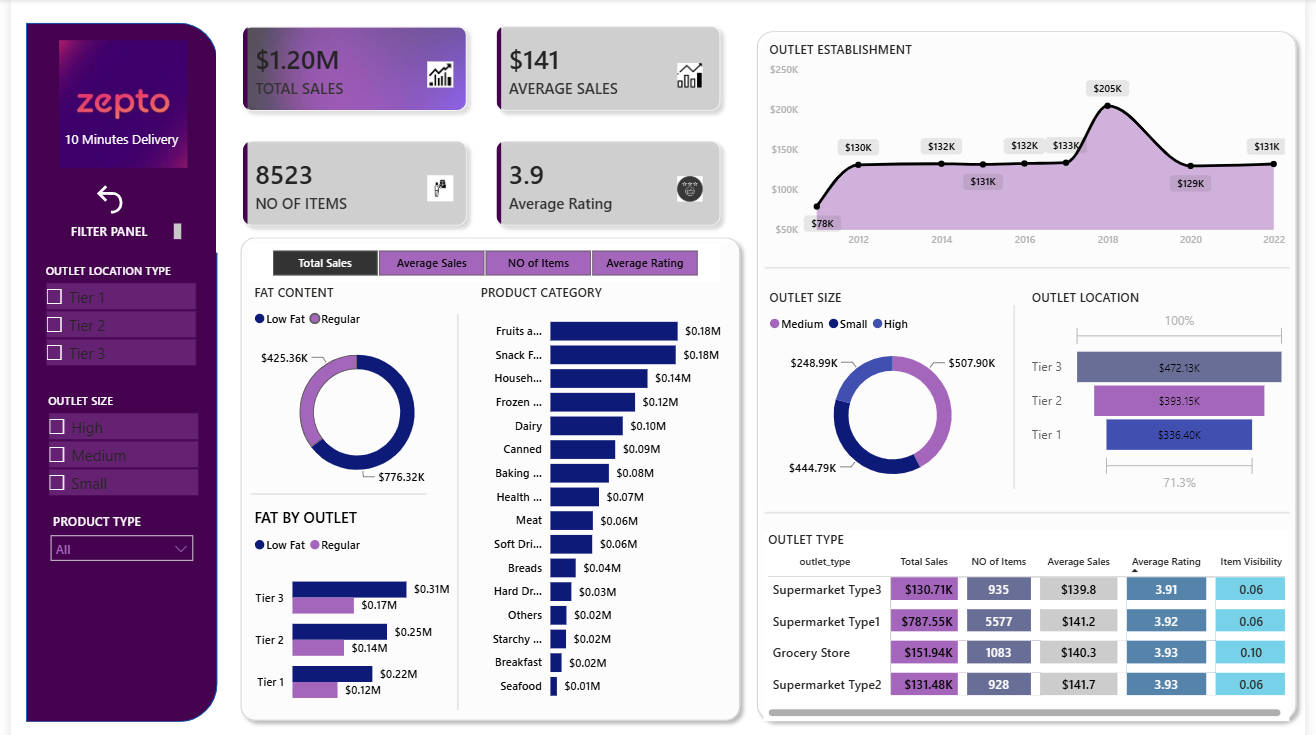

What the dashboard file says about the page in this screenshot:
{"tool":"powerbi","page":{"name":"Page 1","canvas":[1388,800],"ordinal":0},"visuals":[{"type":"textbox","box":[37.2,125,168.1,157.7],"z":0},{"type":"shape","box":[16.4,25.3,205.3,750],"z":1000},{"type":"image","box":[34.2,44.6,171.1,136.9],"z":2000},{"type":"textbox","box":[52.1,135.4,135.4,32.7],"z":3000},{"type":"cardVisual","fields":{"Data":["Sheet1.Total Sales","Sheet1.Average Sales","Sheet1.NO of Items","Sheet1.Average Rating"]},"box":[219.8,0,571,272.1],"z":4000},{"type":"image","box":[446.4,55,28.2,52.3],"z":5000},{"type":"image","box":[714.5,63,26.8,37.5],"z":6000},{"type":"image","box":[446.4,185,28.2,36.2],"z":7000},{"type":"image","box":[714.5,183.6,26.8,40.2],"z":8000},{"type":"shape","box":[237.3,246.7,553.6,536.2],"z":9000},{"type":"donutChart","title":"FAT CONTENT","fields":{"Y":["Sheet1.Total Sales"],"Series":["Sheet1.fat_content"]},"box":[256,305.6,230.6,230],"z":10000},{"type":"slicer","fields":{"Values":["Metrics.Metrics"]},"box":[254.7,262.7,505.4,40.2],"z":11000},{"type":"clusteredBarChart","title":"FAT BY OUTLET","fields":{"Y":["Sheet1.Total Sales"],"Category":["Sheet1.outlet_location_type"],"Series":["Sheet1.fat_content"]},"box":[256,544.2,219.8,230.6],"z":12000},{"type":"shape","box":[257.4,525.5,189,10.7],"z":13000},{"type":"shape","box":[471.9,337.8,14.7,424.9],"z":14000},{"type":"barChart","title":"PRODUCT CATEGORY","fields":{"Y":["Sheet1.Total Sales"],"Category":["Sheet1.product_category"]},"box":[498.7,305.6,268.1,457.1],"z":15000},{"type":"shape","box":[790.9,25.5,596.5,757.4],"z":16000},{"type":"lineChart","title":"OUTLET ESTABLISHMENT","fields":{"Y":["Sheet1.Total Sales"],"Category":["Sheet1.outlet_establishment_year"]},"box":[808.3,44.2,563,230.6],"z":17000},{"type":"shape","box":[808.3,282.8,563,10.7],"z":18000},{"type":"donutChart","title":"OUTLET SIZE","fields":{"Y":["Sheet1.Total Sales"],"Category":["Sheet1.outlet_size"]},"box":[808.3,311,274.8,225.2],"z":19000},{"type":"shape","box":[1068.4,328.4,14.7,197.1],"z":20000},{"type":"funnel","title":"OUTLET LOCATION","fields":{"Y":["Sheet1.Total Sales"],"Category":["Sheet1.outlet_location_type"]},"box":[1089.8,311,282.8,222.5],"z":21000},{"type":"shape","box":[808.3,545.6,563,10.7],"z":22000},{"type":"pivotTable","title":"OUTLET TYPE","fields":{"Rows":["Sheet1.outlet_type"],"Values":["Sheet1.Total Sales","Sheet1.NO of Items","Sheet1.Average Sales","Sheet1.Average Rating","Avg(Sheet1.product_visibility)"]},"box":[807,569.7,564.3,205.1],"z":23000},{"type":"listSlicer","title":"OUTLET LOCATION TYPE","fields":{"Values":["Sheet1.outlet_location_type"]},"box":[32.2,282.8,172.9,127.3],"z":24000},{"type":"listSlicer","title":"OUTLET SIZE ","fields":{"Values":["Sheet1.outlet_size"]},"box":[34.9,422.3,172.9,123.3],"z":25000},{"type":"slicer","title":"OUTLET LOCATION TYPE","fields":{"Values":["Sheet1.product_category"]},"box":[32.2,545.6,172.9,57.6],"z":26000},{"type":"textbox","box":[32.2,235.9,155.5,26.8],"z":27000},{"type":"actionButton","box":[86.2,194.4,48.6,40.8],"z":28000}]}

Visuals, with their boxes on the page's 1388x800 design canvas (x1, y1, x2, y2). These are canvas units, not pixel positions in the 1316x735 screenshot, which may show the page scaled, cropped or inside an application window:
textbox: [37,125,205,283]
shape: [16,25,222,775]
image: [34,45,205,182]
textbox: [52,135,188,168]
cardVisual - Sheet1.Total Sales x Sheet1.Average Sales: [220,0,791,272]
image: [446,55,475,107]
image: [714,63,741,100]
image: [446,185,475,221]
image: [714,184,741,224]
shape: [237,247,791,783]
"FAT CONTENT" donutChart: [256,306,487,536]
slicer - Metrics.Metrics: [255,263,760,303]
"FAT BY OUTLET" clusteredBarChart: [256,544,476,775]
shape: [257,526,446,536]
shape: [472,338,487,763]
"PRODUCT CATEGORY" barChart: [499,306,767,763]
shape: [791,26,1387,783]
"OUTLET ESTABLISHMENT" lineChart: [808,44,1371,275]
shape: [808,283,1371,294]
"OUTLET SIZE" donutChart: [808,311,1083,536]
shape: [1068,328,1083,526]
"OUTLET LOCATION" funnel: [1090,311,1373,534]
shape: [808,546,1371,556]
"OUTLET TYPE" pivotTable: [807,570,1371,775]
"OUTLET LOCATION TYPE" listSlicer: [32,283,205,410]
"OUTLET SIZE " listSlicer: [35,422,208,546]
"OUTLET LOCATION TYPE" slicer: [32,546,205,603]
textbox: [32,236,188,263]
actionButton: [86,194,135,235]
